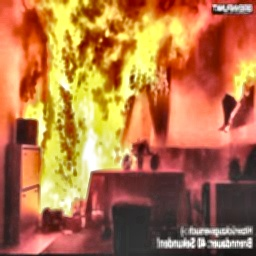fire: (1, 2, 253, 162)
